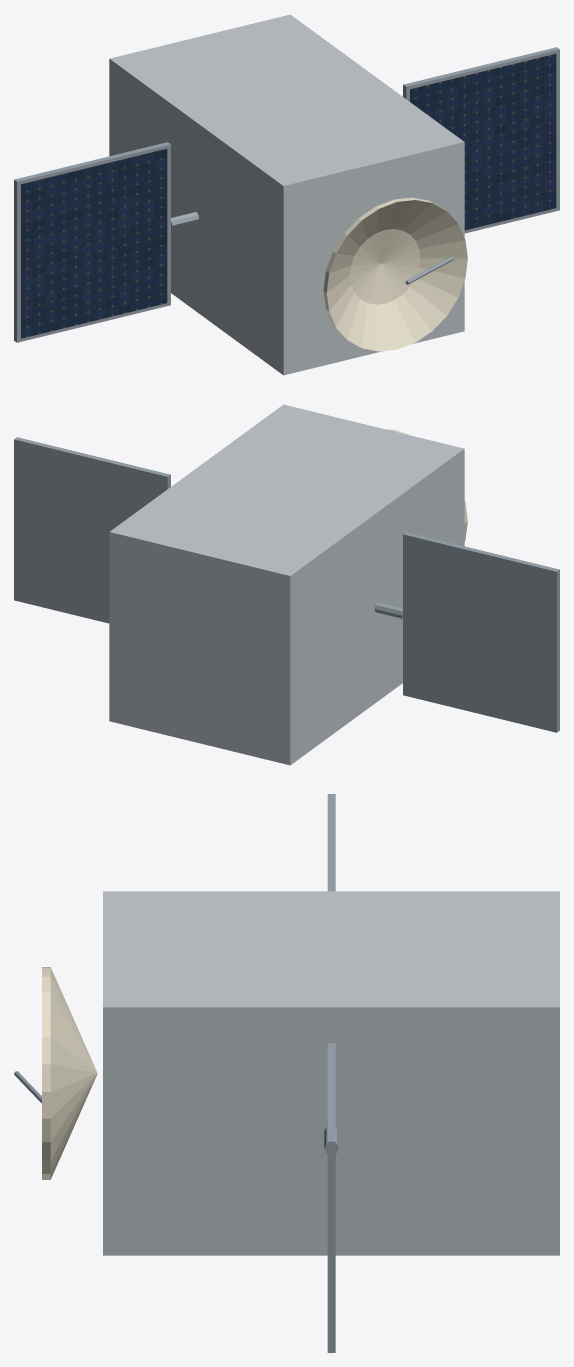
Rendered from ref-xyz-47298.glb.
3 views of the same model, one above another, from view 1: azimuth 30°, elevation 25°; view 2: azimuth 150°, elevation 25°; view 3: azimuth 270°, elevation 25° (orthographic). The views are drawn at different scales.
Visible parts, largest first — view 1: Spacecraft body, Photovoltaic laminates (×2), Reflector dish, Array frame (×2); view 2: Spacecraft body, Array frame (×2); view 3: Spacecraft body, Reflector dish, Array frame (×2).
Boxes of the visible parts, x1,y1,x2,y2 form: Spacecraft body: (109, 14, 464, 375); Photovoltaic laminates (×2): (21, 54, 556, 338); Reflector dish: (323, 197, 467, 351); Array frame (×2): (14, 47, 559, 342); Spacecraft body: (109, 404, 464, 765); Array frame (×2): (14, 437, 559, 732); Spacecraft body: (103, 891, 559, 1255); Reflector dish: (42, 967, 97, 1179); Array frame (×2): (327, 794, 335, 1352).
Size of the model in its own units: 9 by 3 by 5.98.
Materials: 4 (1 with a texture image).
